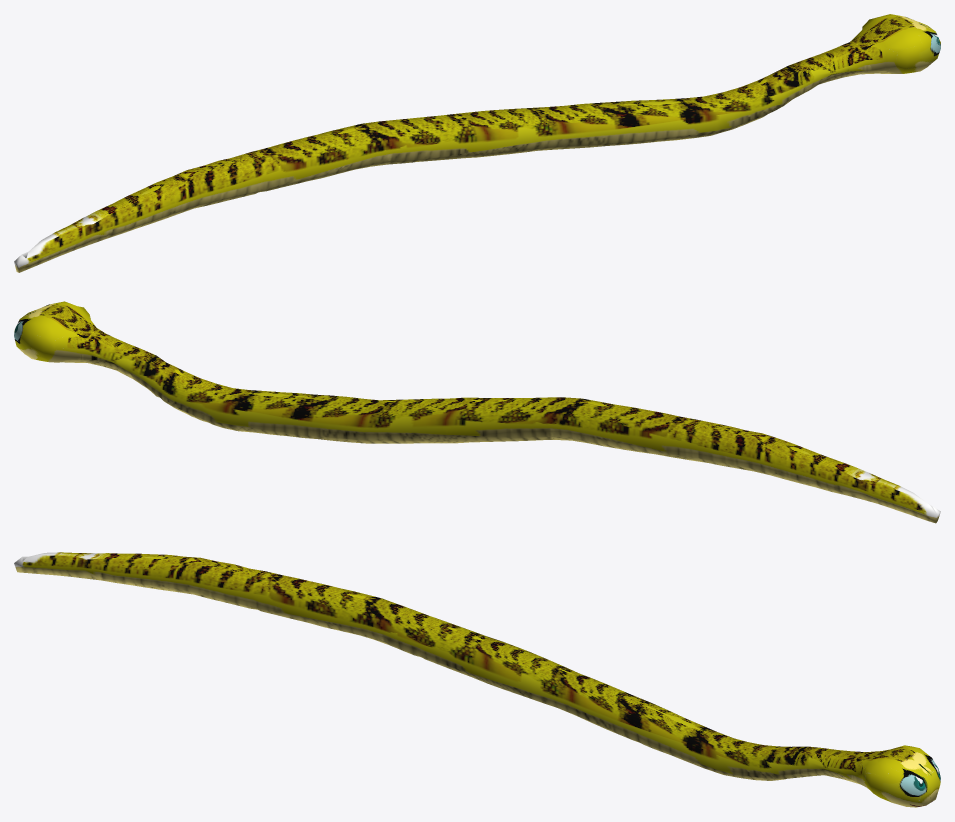
File: snake_aug_11.obj
3 views of the same model, one above another, from view 1: azimuth 30°, elevation 25°; view 2: azimuth 150°, elevation 25°; view 3: azimuth 330°, elevation 25° (orthographic). The views are drawn at different scales.
Bounding box in the file's own units: 103 × 10.97 × 8.62.
1 material, 1 textured.
